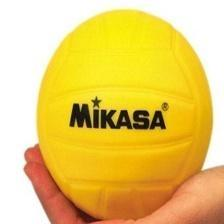Sports-Ball: (34, 9, 213, 216)
